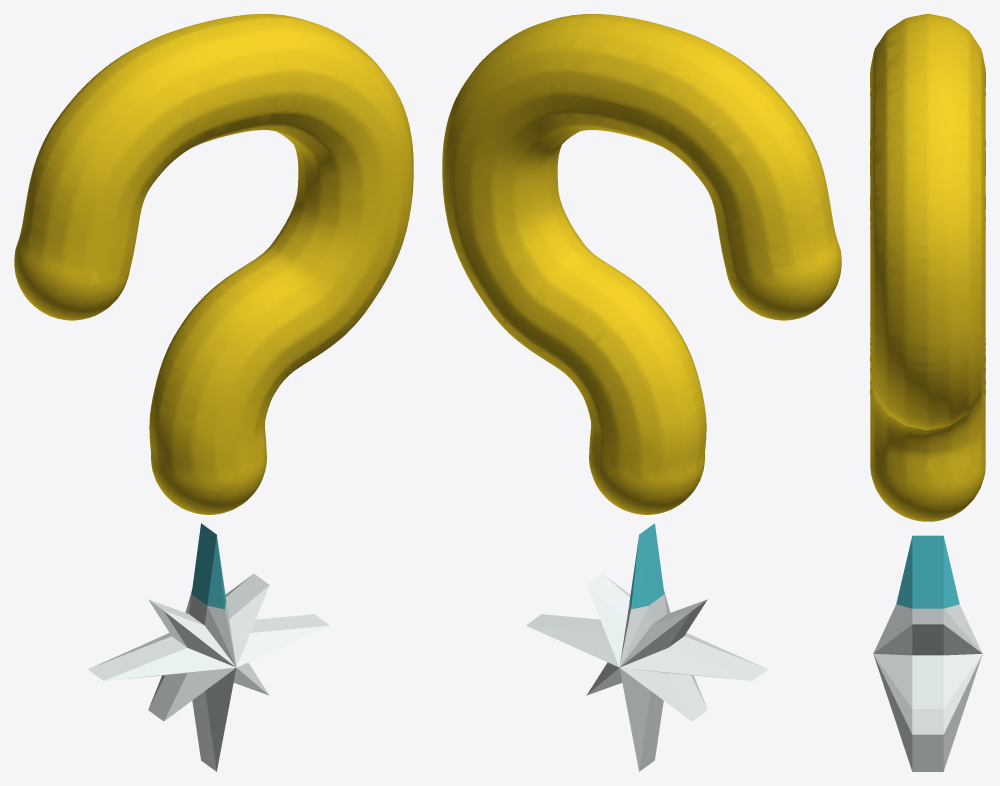
The model's file is libot_question_mark.glb.
3 renders of one model, left to right at view 1: azimuth 30°, elevation 25°; view 2: azimuth 150°, elevation 25°; view 3: azimuth 270°, elevation 25°, orthographic.
Visible parts, largest first — view 1: QM_Hook, QM_StarDot; view 2: QM_Hook, QM_StarDot; view 3: QM_Hook, QM_StarDot.
Boxes of the visible parts, x1,y1,x2,y2 form: QM_Hook: [14, 14, 413, 514]; QM_StarDot: [88, 523, 329, 771]; QM_Hook: [442, 14, 841, 514]; QM_StarDot: [526, 523, 767, 771]; QM_Hook: [870, 14, 985, 521]; QM_StarDot: [873, 535, 982, 771].
Size of the model in its own units: 3.8 by 6.97 by 0.9947.
